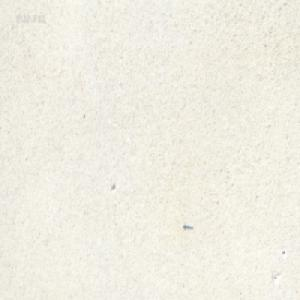Nail: (182, 222, 193, 230)
